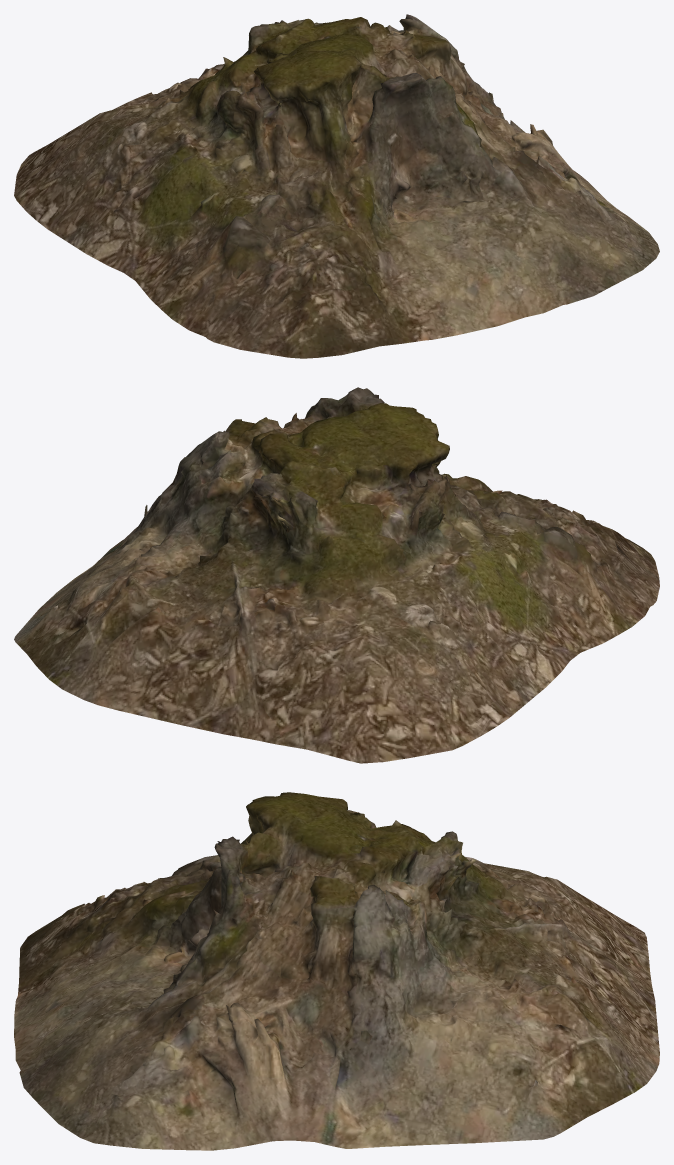
File: tree_stump_01.glb
3 renders of one model, top to bottom at view 1: azimuth 30°, elevation 25°; view 2: azimuth 150°, elevation 25°; view 3: azimuth 270°, elevation 25°, orthographic. The views are drawn at different scales.
Parts seen in each view (by area): view 1: tree_stump_01; view 2: tree_stump_01; view 3: tree_stump_01.
Boxes of the visible parts, bbox=[...] form: tree_stump_01: bbox=[14, 14, 659, 358]; tree_stump_01: bbox=[14, 387, 659, 763]; tree_stump_01: bbox=[14, 792, 659, 1150].
Bounding box in the file's own units: 1.43 × 0.5725 × 1.59.
Materials: 1 (1 with a texture image).
